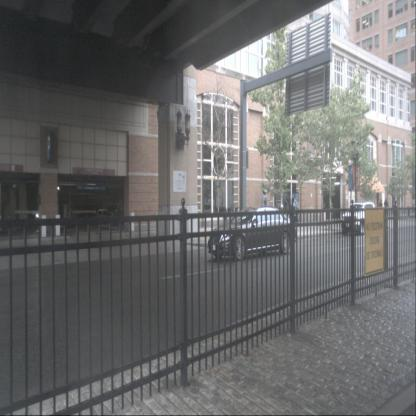human-pedestrian-adult: (293, 197, 299, 225), (384, 198, 388, 217), (379, 199, 383, 218)
vehicle-car: (208, 206, 298, 261), (341, 201, 375, 235)
